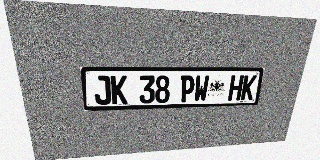3: (140, 75, 155, 104)
8: (155, 75, 170, 103)
H: (228, 75, 244, 101)
J: (93, 76, 111, 105)
K: (110, 76, 127, 104), (240, 75, 257, 100)
P: (179, 75, 195, 102)
W: (193, 75, 210, 102)
